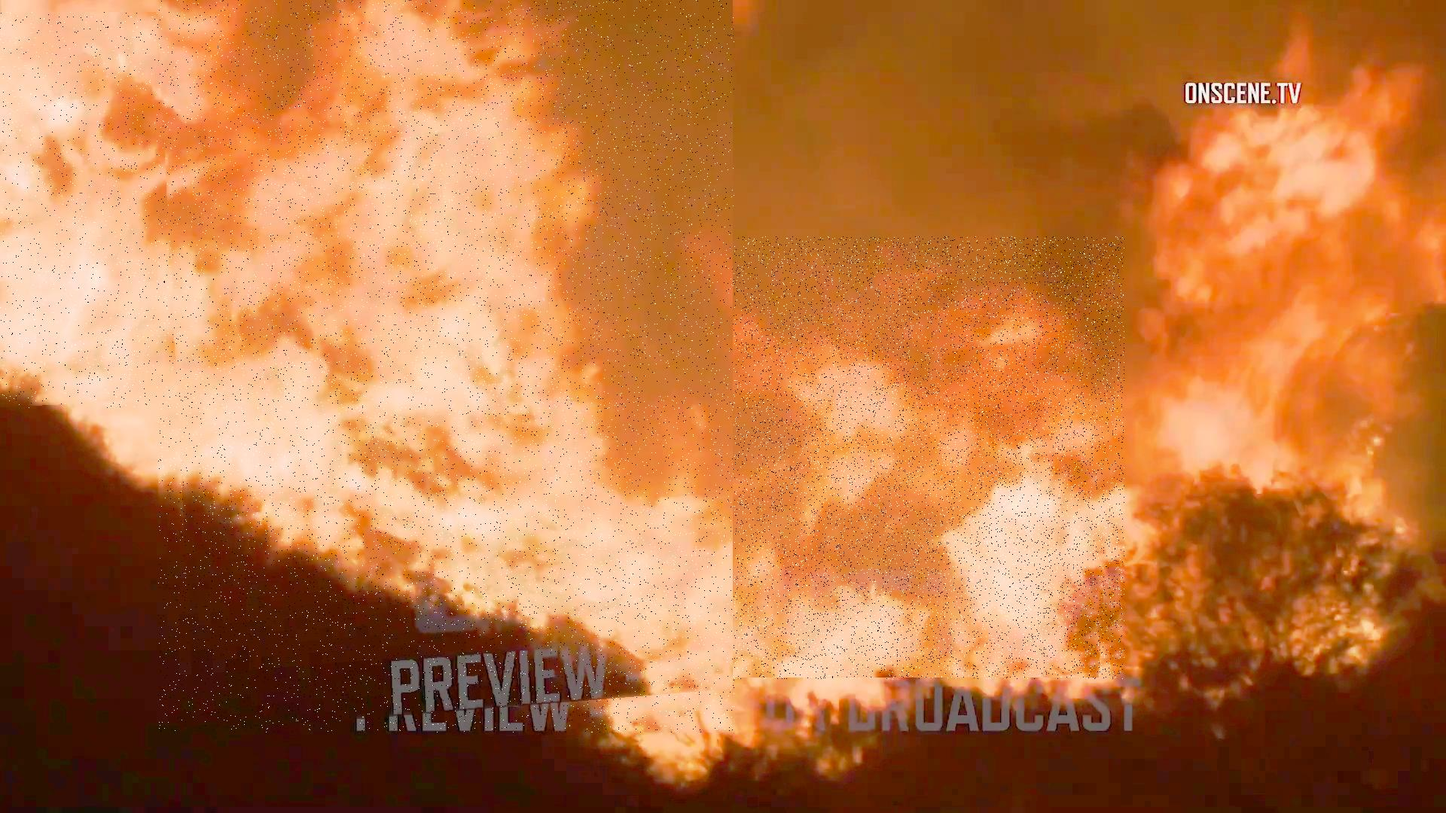fire: (159, 0, 735, 732), (0, 12, 563, 408), (698, 237, 1124, 680)
